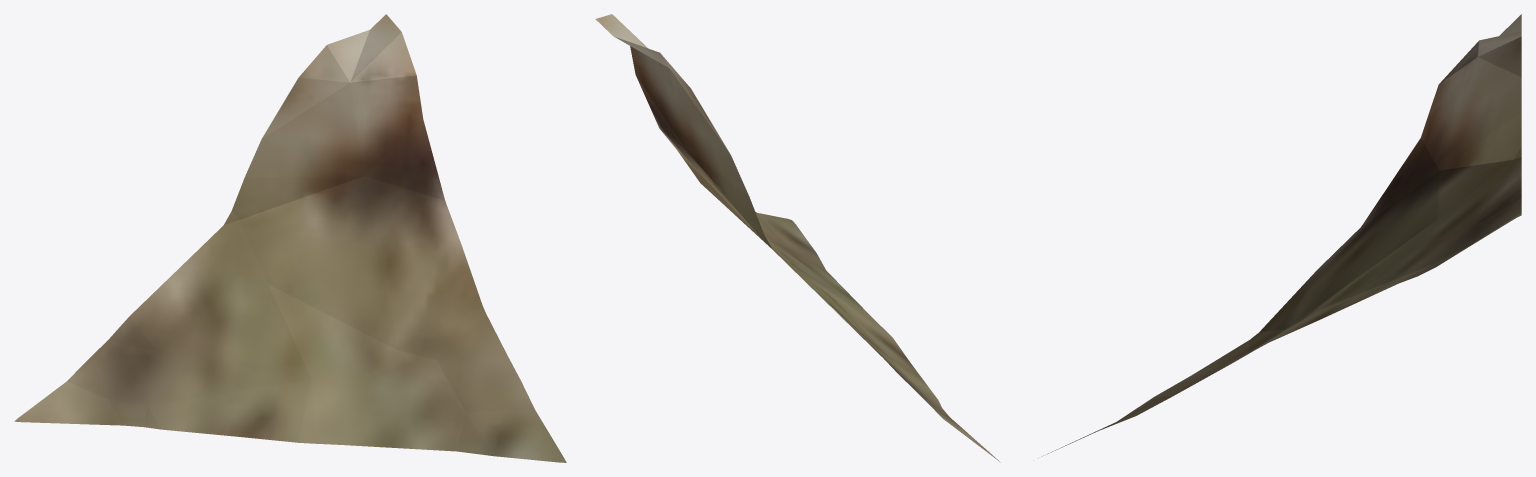
3 renders of one model, left to right at view 1: azimuth 30°, elevation 25°; view 2: azimuth 150°, elevation 25°; view 3: azimuth 270°, elevation 25°, orthographic. The views are drawn at different scales.
Size of the model in its own units: 15.32 by 12.46 by 12.87.
Materials: 1 (1 with a texture image).
